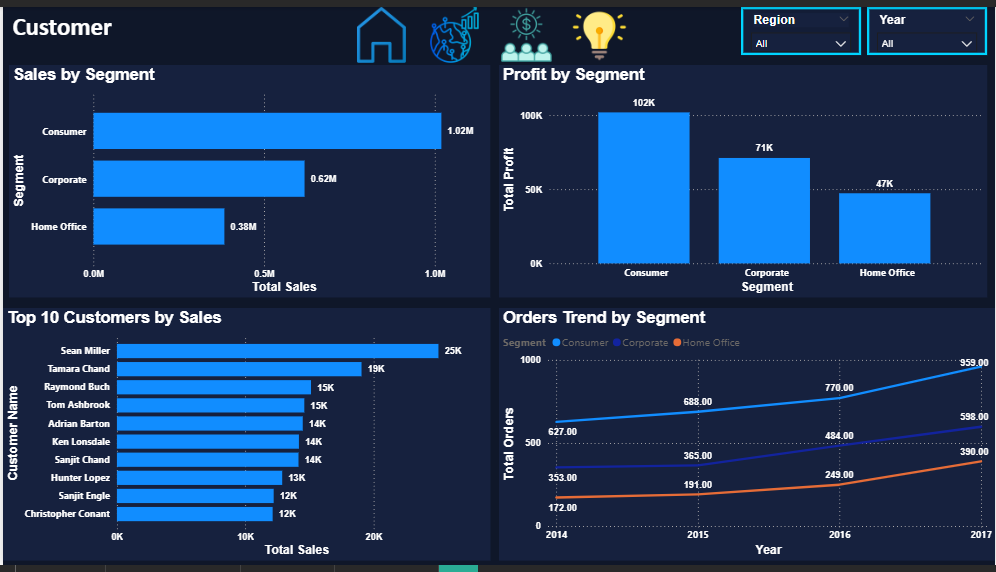

What the dashboard file says about the page in this screenshot:
{"tool":"powerbi","page":{"name":"Customer","canvas":[1280,720],"ordinal":2},"visuals":[{"type":"barChart","title":"Sales by Segment","fields":{"Y":["Sample - Superstore.Total Sales"],"Category":["Sample - Superstore.Segment"]},"box":[7.6,74.2,621.2,300],"z":0},{"type":"clusteredColumnChart","title":"Profit by Segment","fields":{"Category":["Sample - Superstore.Segment"],"Y":["Sample - Superstore.Total Profit"]},"box":[639.4,74.2,630.3,300],"z":1000},{"type":"barChart","title":"Top 10 Customers by Sales","fields":{"Y":["Sample - Superstore.Total Sales"],"Category":["Sample - Superstore.Customer Name"]},"box":[0,387.9,628.8,325.8],"z":2000},{"type":"lineChart","title":"Orders Trend by Segment","fields":{"Category":["Date Table.Year"],"Y":["Sample - Superstore.Total Orders"],"Series":["Sample - Superstore.Segment"]},"box":[639.4,387.9,640.9,325.8],"z":3000},{"type":"slicer","fields":{"Values":["Date Table.Year"]},"box":[1114.7,0,154.7,62.2],"z":4000},{"type":"slicer","fields":{"Values":["Sample - Superstore.Region"]},"box":[952.8,0,154.7,62.2],"z":5000},{"type":"image","box":[441,0,94,72.3],"z":6000},{"type":"image","box":[534.9,0,94,72.3],"z":7000},{"type":"image","box":[628.9,0,94,72.3],"z":8000},{"type":"textbox","box":[0,1.4,341.2,60.7],"z":9000},{"type":"image","box":[722.9,1.4,94,72.3],"z":10000}]}

Visuals, with their boxes in screenshot pixels (x1, y1, x2, y2), scaled from the page's 1280x720 canvas onto the 996x572 screenshot:
"Sales by Segment" barChart: (left=6, top=59, right=489, bottom=297)
"Profit by Segment" clusteredColumnChart: (left=498, top=59, right=988, bottom=297)
"Top 10 Customers by Sales" barChart: (left=0, top=308, right=489, bottom=567)
"Orders Trend by Segment" lineChart: (left=498, top=308, right=995, bottom=567)
slicer - Date Table.Year: (left=867, top=0, right=988, bottom=49)
slicer - Sample - Superstore.Region: (left=741, top=0, right=862, bottom=49)
image: (left=343, top=0, right=416, bottom=57)
image: (left=416, top=0, right=489, bottom=57)
image: (left=489, top=0, right=563, bottom=57)
textbox: (left=0, top=1, right=265, bottom=49)
image: (left=563, top=1, right=636, bottom=59)
